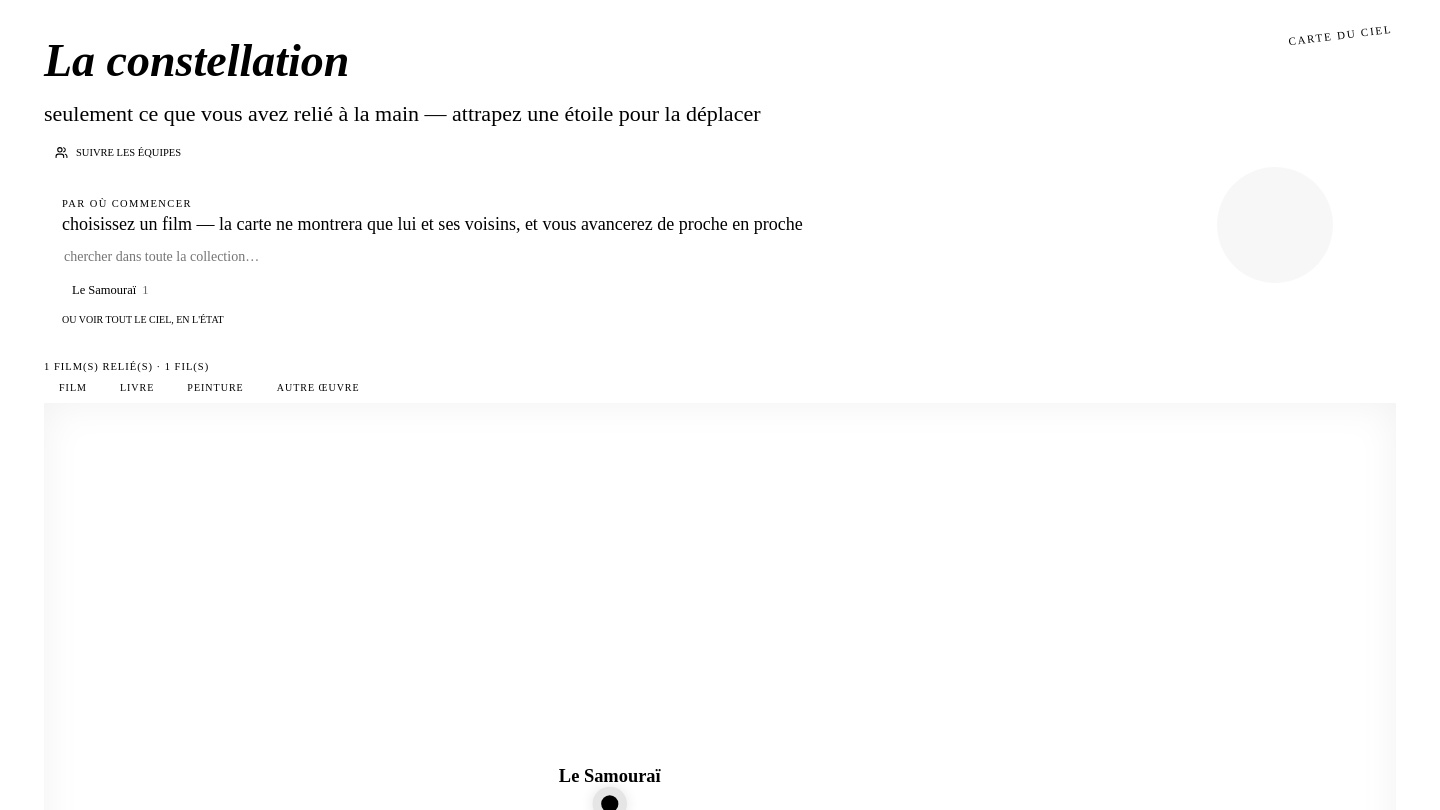
Test: the constellation's search › searches on the director too
The image size is (1440, 810).
Type "tati" into the field with placeholder "chercher dans toute la collection…".
click(222, 257); type("tati")  # box left=62, top=245, right=382, bottom=269
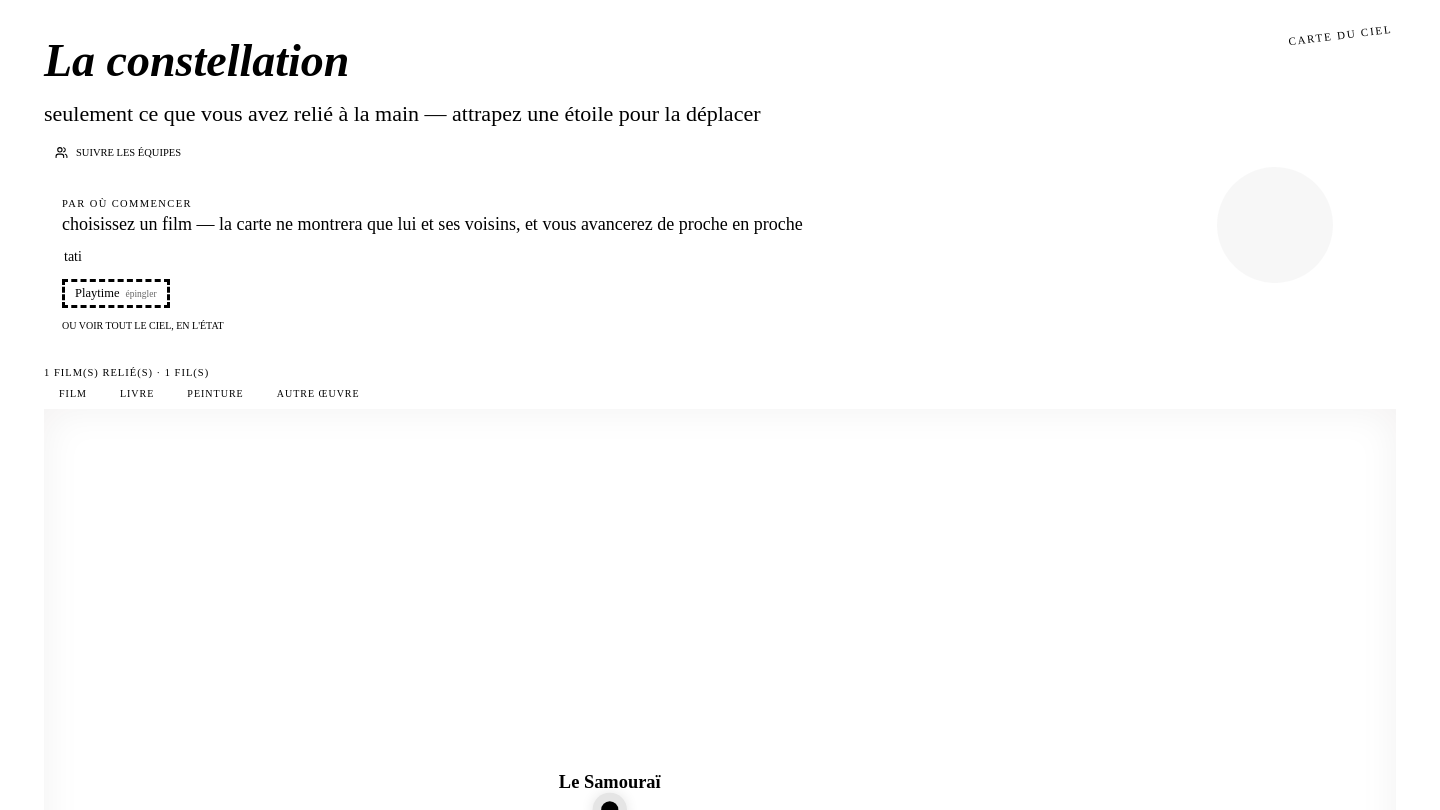
Check: the button "Playtime" is shown, box left=62, top=279, right=170, bottom=308
